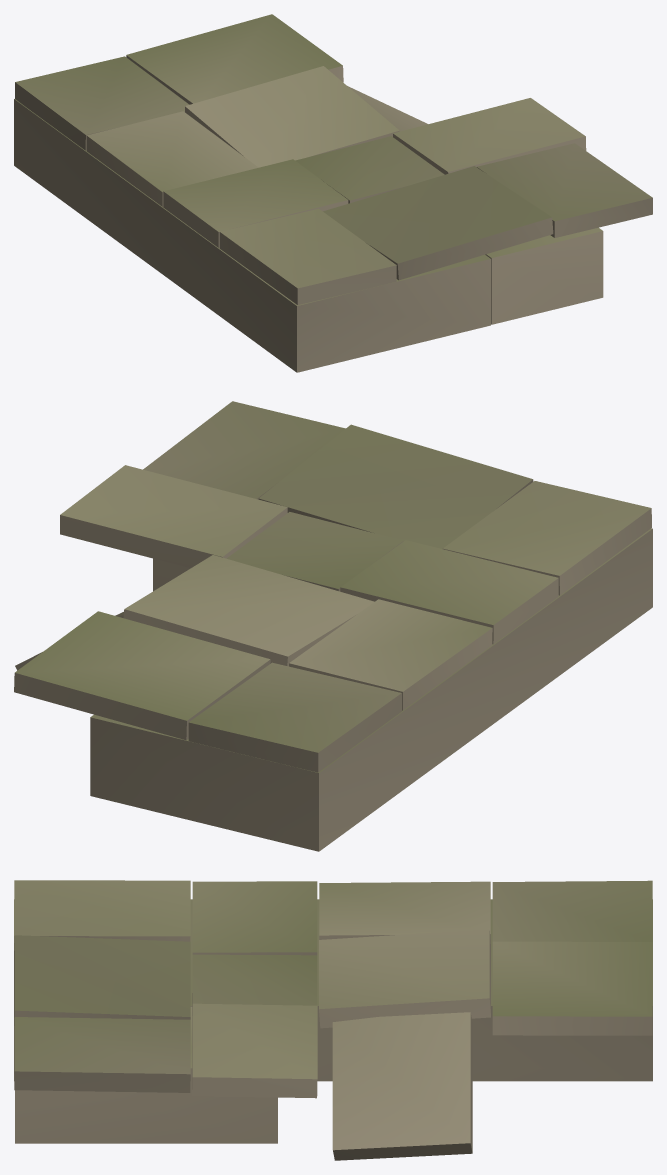
The model's file is sanctuary_deck_broken_mid.glb.
The picture shows the model from 3 angles, top to bottom: view 1: azimuth 30°, elevation 25°; view 2: azimuth 150°, elevation 25°; view 3: azimuth 270°, elevation 25°; orthographic projection. The views are drawn at different scales.
Parts seen in each view (by area): view 1: sanctuary_deck_broken_mid; view 2: sanctuary_deck_broken_mid; view 3: sanctuary_deck_broken_mid.
Part boxes in pixels (box(x1,y1,x2,y2)): sanctuary_deck_broken_mid: box(14, 14, 652, 372); sanctuary_deck_broken_mid: box(14, 401, 652, 851); sanctuary_deck_broken_mid: box(14, 880, 652, 1160).
Bounding box in the file's own units: 13.87 × 3.66 × 18.46.
